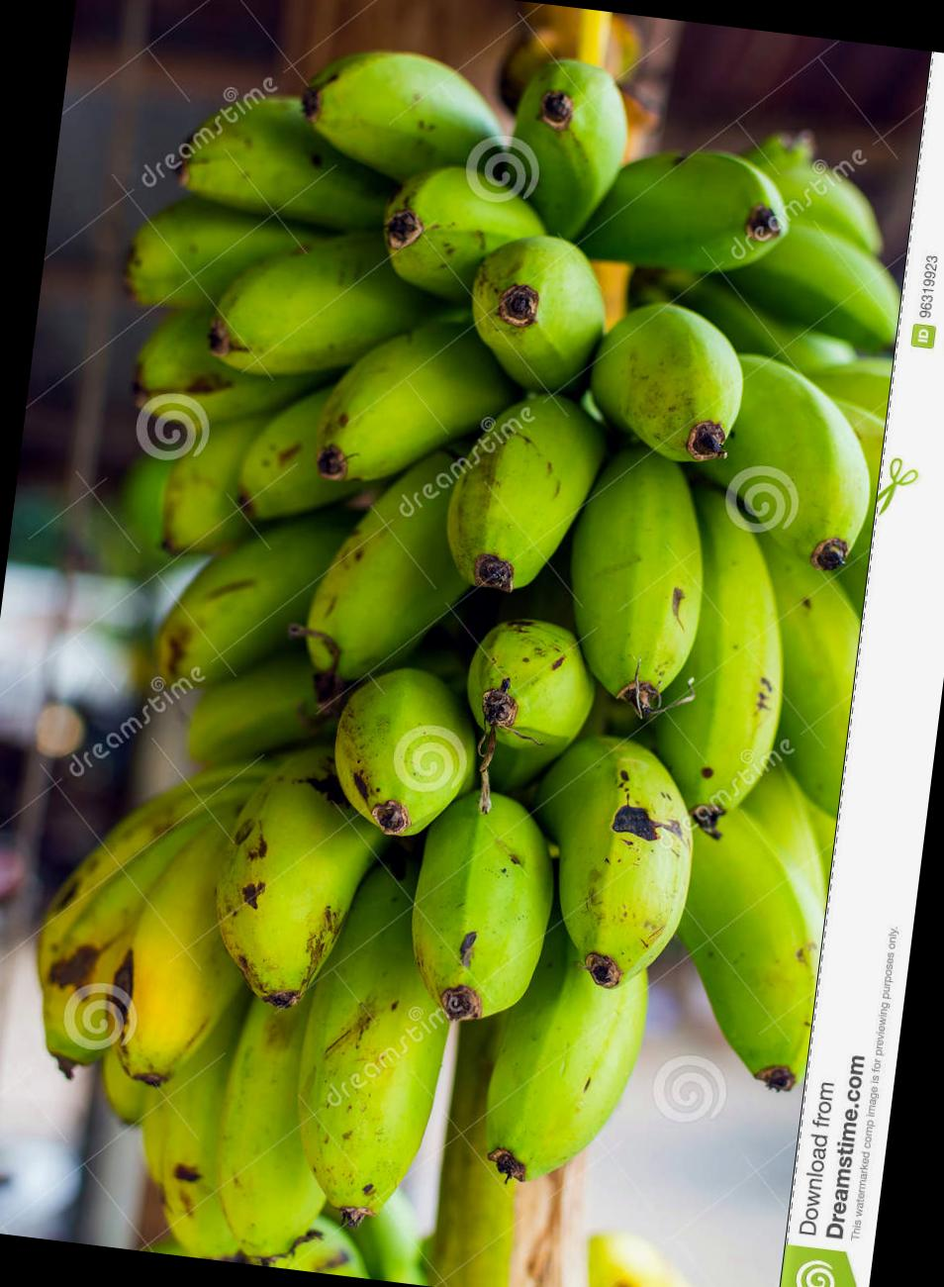Banana Unripe: (0, 0, 922, 1287)
